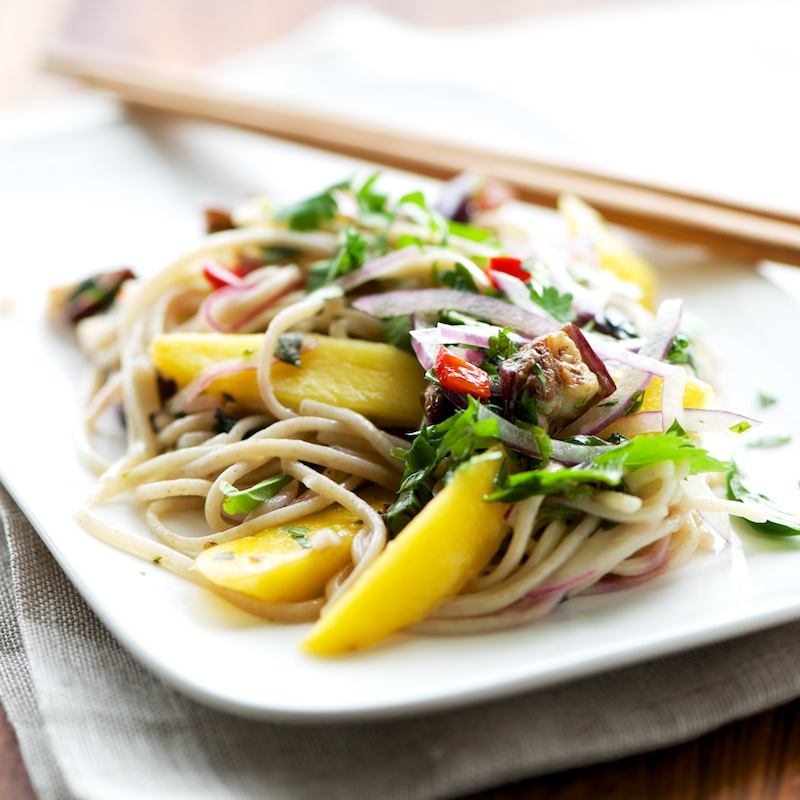Soba: (56, 176, 779, 625)
